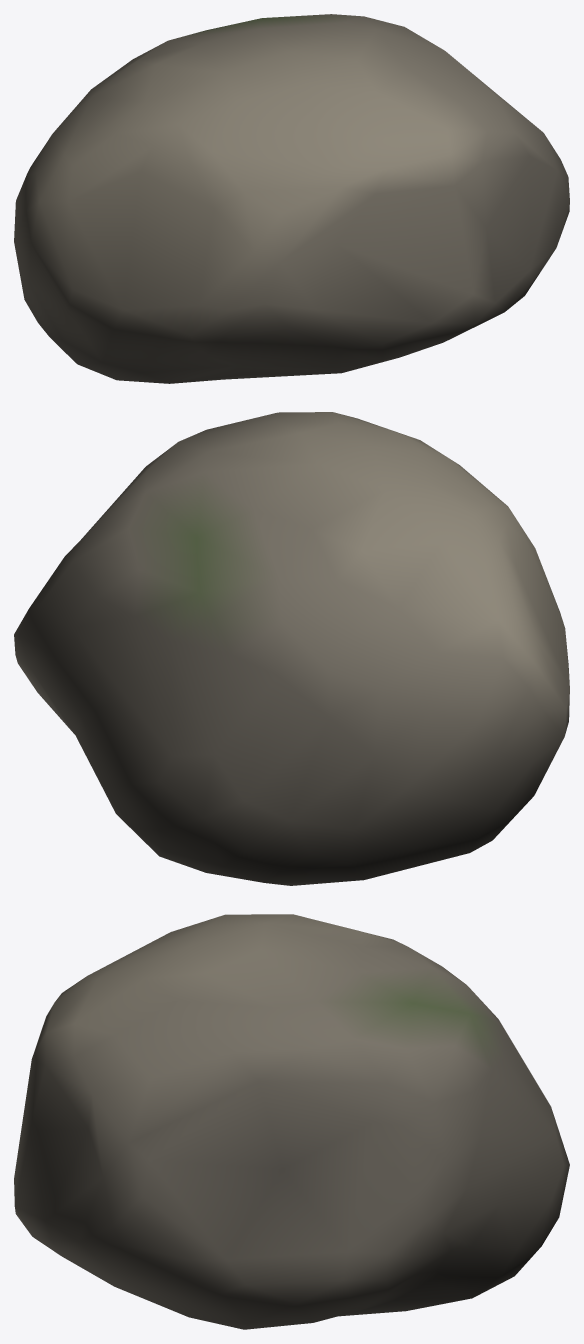
Rendered from boulder_a.glb.
3 renders of one model, top to bottom at view 1: azimuth 30°, elevation 25°; view 2: azimuth 150°, elevation 25°; view 3: azimuth 270°, elevation 25°, orthographic. The views are drawn at different scales.
Parts seen in each view (by area): view 1: boulder_a; view 2: boulder_a; view 3: boulder_a.
Part boxes in pixels (box(x1,y1,x2,y2)): boulder_a: box(14, 14, 569, 383); boulder_a: box(14, 412, 569, 885); boulder_a: box(14, 914, 569, 1329).
Bounding box in the file's own units: 1.21 × 0.7071 × 1.12.
